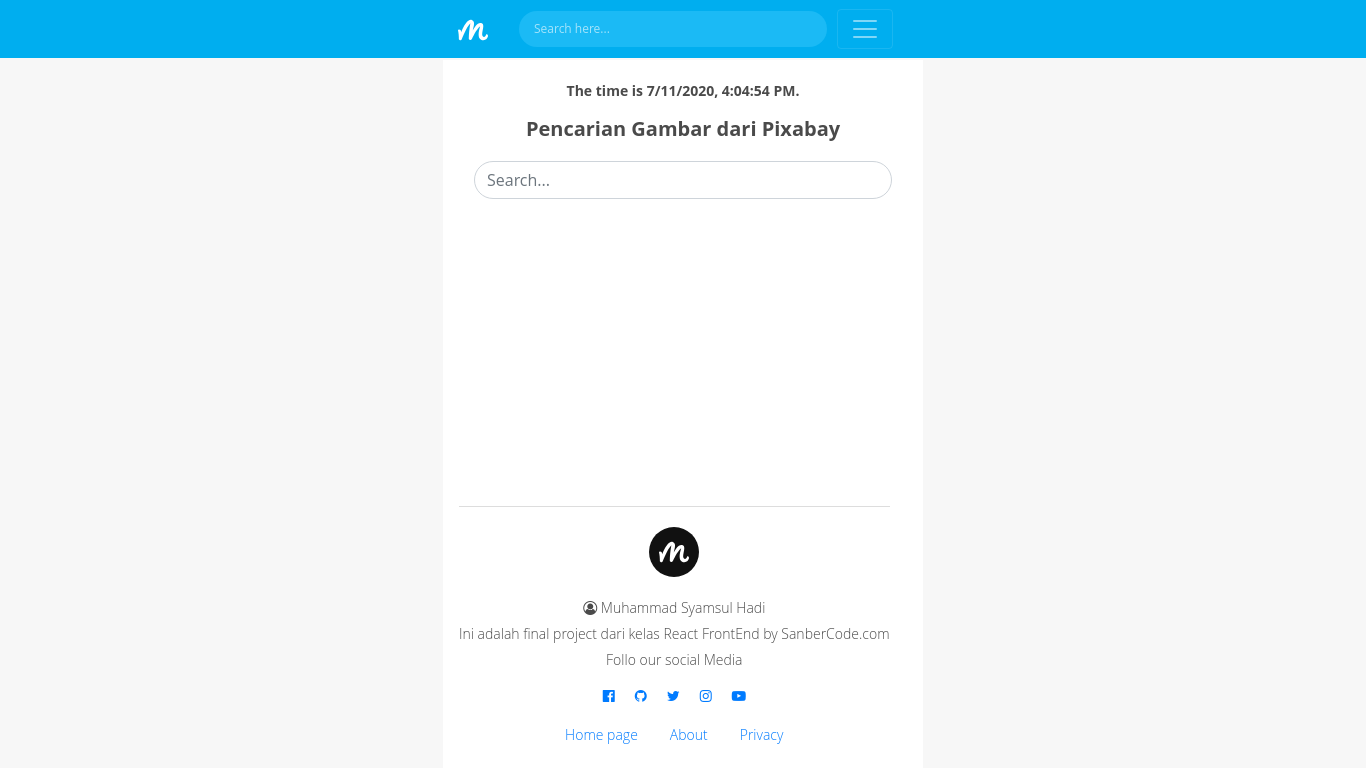
Test: router test
Click the link "About". click: (689, 734)
box: [670,725,708,744]
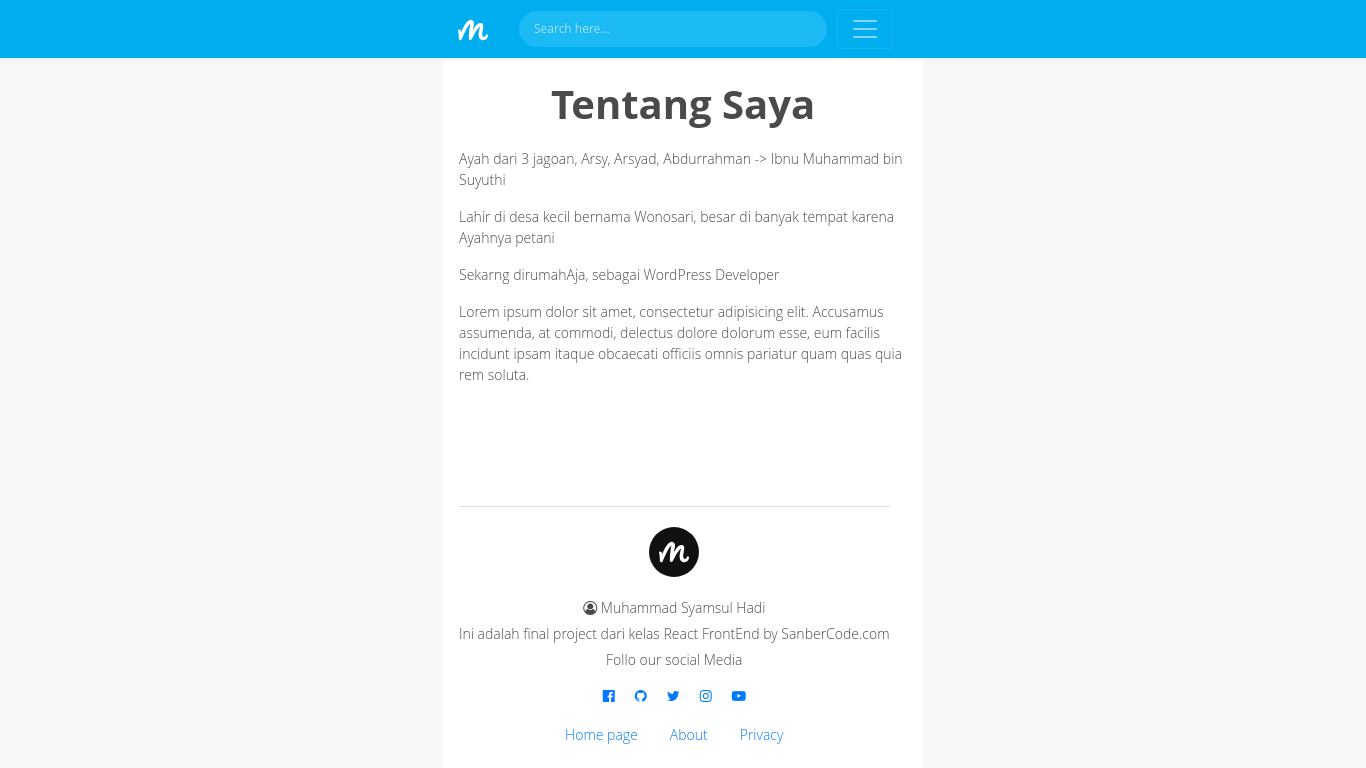
Result: the text "Ayah dari 3 jagoan" is shown at [459,149,903,189]
